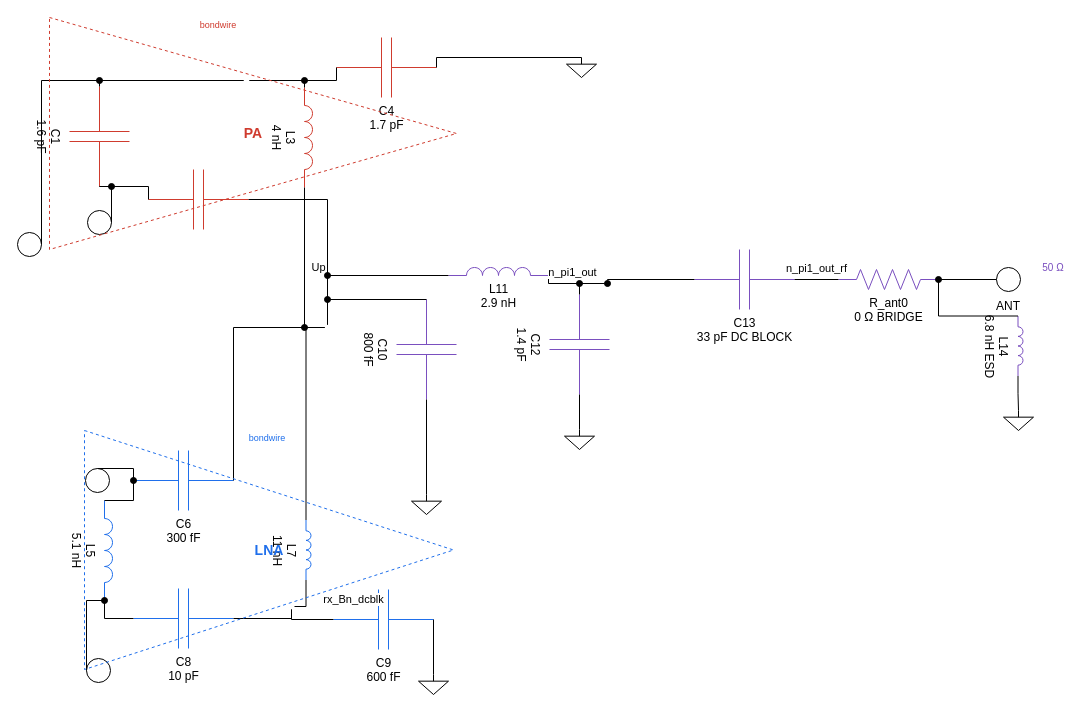
This 1084x722 diagram has some shape labels left out. The shapes that lost their labels are listed below. From the top down, each one's box as (x1, y1, x2, y2) in pixels, then its label:
(148, 168, 248, 230): C2 1 pF
(86, 210, 112, 234): Bn
(16, 232, 42, 256): Bp
(84, 468, 110, 492): rx_Bp
(86, 658, 110, 682): rx_Bn
